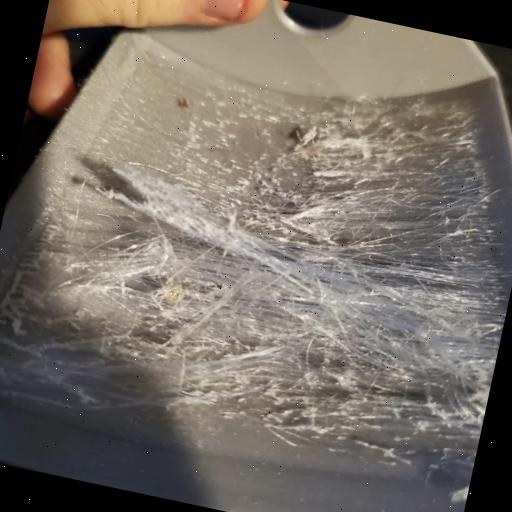stringing: (120, 100, 492, 470)
